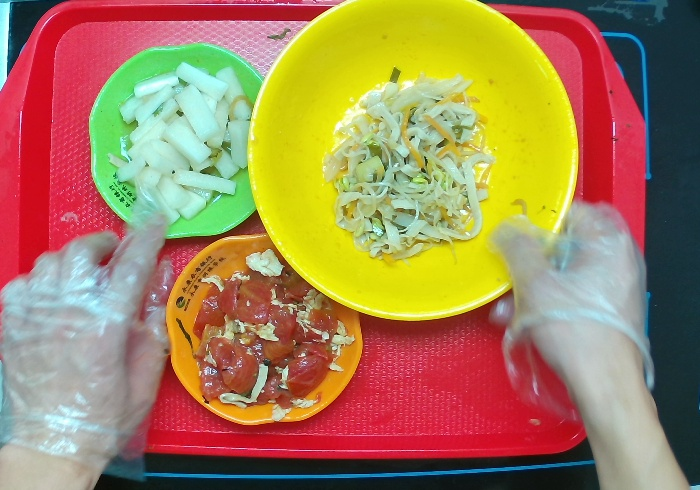YKMZ-Huang_Se_Tang_Wan: (245, 1, 580, 323)
YKMZ-Ju_Se_Ao_Bian_Wan: (164, 230, 365, 427)
YKMZ-Lv_Se_Ao_Bian_Wan: (87, 41, 268, 240)
